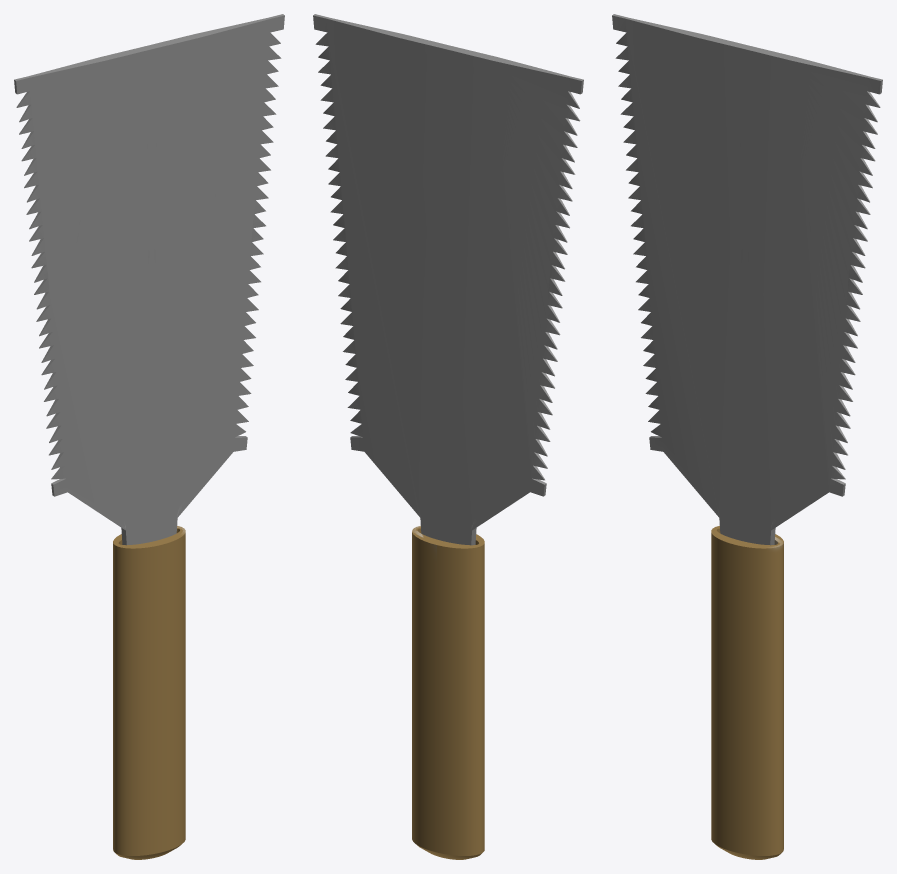
Rendered from saw.fbx.
The picture shows the model from 3 angles, left to right: view 1: azimuth 30°, elevation 25°; view 2: azimuth 150°, elevation 25°; view 3: azimuth 330°, elevation 25°; orthographic projection.
Parts seen in each view (by area): view 1: Plane; view 2: Plane; view 3: Plane.
Boxes of the visible parts, bbox=[...] form: Plane: bbox=[14, 14, 284, 859]; Plane: bbox=[313, 14, 583, 859]; Plane: bbox=[612, 14, 882, 859].
Bounding box in the file's own units: 103 × 297 × 15.24.
